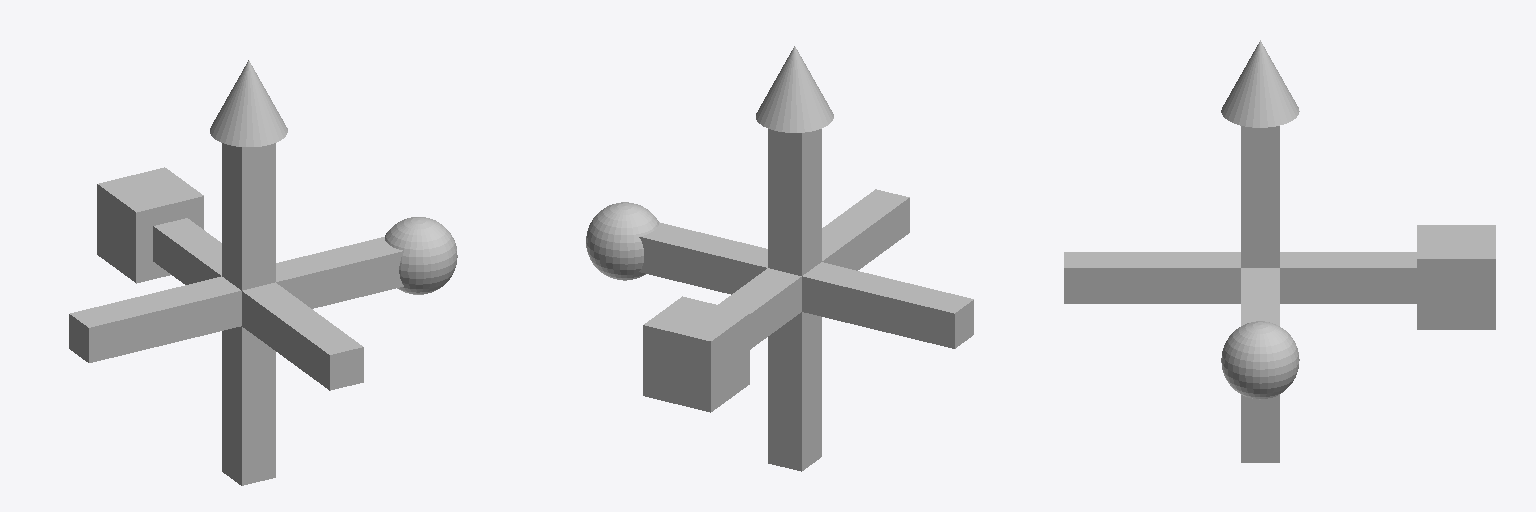
Rendered from marker_2.obj.
3 renders of one model, left to right at view 1: azimuth 30°, elevation 25°; view 2: azimuth 150°, elevation 25°; view 3: azimuth 270°, elevation 25°, orthographic.
Visible parts, largest first — view 1: Cube.002, Cube.006, Cube, Cube.005, Cube.004, Cube.001, Sphere, Cone, Cube.003; view 2: Cube, Cube.002, Cube.006, Cube.005, Cube.001, Cube.004, Sphere, Cone, Cube.003; view 3: Cube.004, Cube, Cube.003, Cube.005, Sphere, Cone, Cube.006, Cube.001.
Boxes of the visible parts, x1,y1,x2,y2 form: Cube.002: [69, 276, 241, 362]; Cube.006: [222, 326, 275, 485]; Cube: [97, 167, 203, 283]; Cube.005: [222, 143, 275, 290]; Cube.004: [242, 282, 363, 390]; Cube.001: [276, 237, 403, 308]; Sphere: [385, 217, 457, 294]; Cone: [210, 60, 287, 146]; Cube.003: [153, 218, 221, 284]; Cube: [643, 296, 749, 412]; Cube.002: [802, 262, 973, 348]; Cube.006: [768, 312, 821, 471]; Cube.005: [768, 129, 821, 275]; Cube.001: [639, 222, 767, 294]; Cube.004: [822, 189, 909, 270]; Sphere: [586, 202, 658, 280]; Cone: [756, 46, 833, 132]; Cube.003: [718, 268, 801, 349]; Cube.004: [1064, 252, 1240, 303]; Cube: [1417, 225, 1495, 329]; Cube.003: [1280, 252, 1416, 303]; Cube.005: [1241, 126, 1279, 267]; Sphere: [1221, 321, 1299, 399]; Cone: [1221, 40, 1299, 127]; Cube.006: [1241, 394, 1279, 462]; Cube.001: [1241, 268, 1279, 325].
Bounding box in the file's own units: 22 × 23.36 × 22.